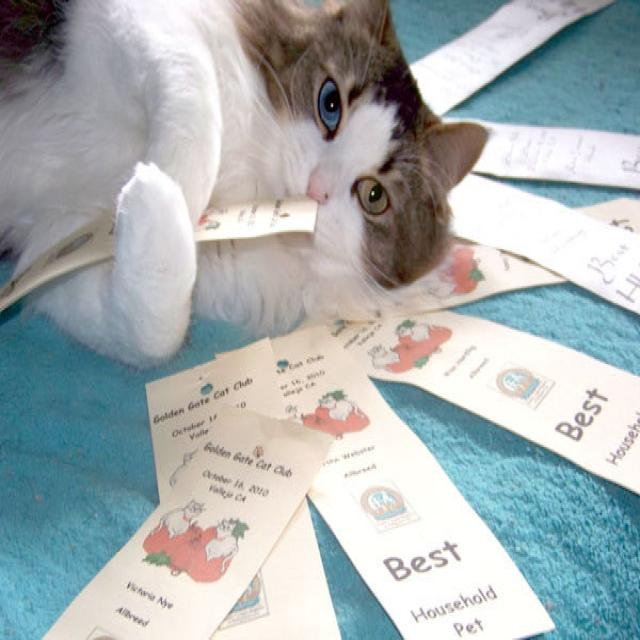cat: (0, 0, 446, 340), (448, 337, 476, 362)
